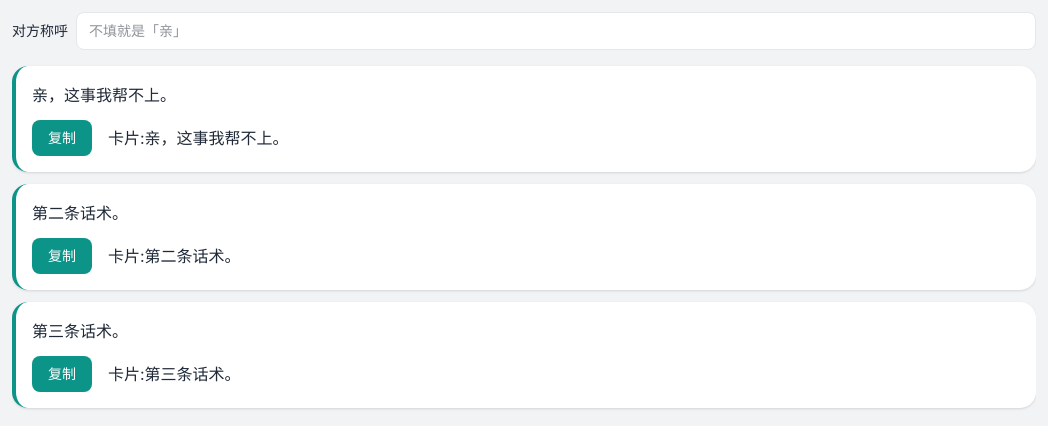
Test case: PhraseList › renderSaveAction 插槽拿到替换后的文案
Type "哥" into the field labelled "对方称呼". click: (556, 31)
box: 76,12 -> 1036,50
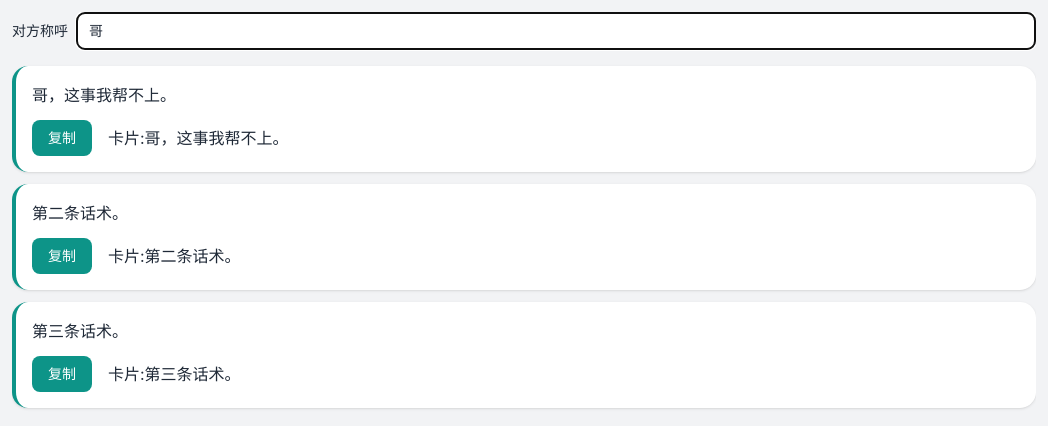
Expected: the text with test id "save-slot" reads "卡片:哥，这事我帮不上。", 108,128 -> 289,148
